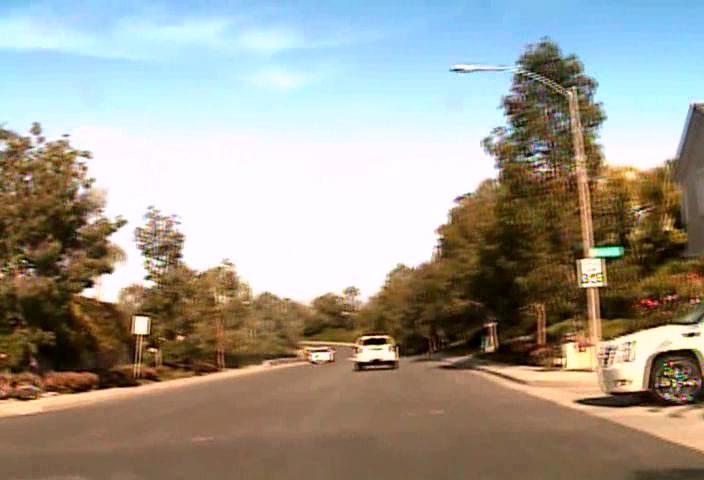speedLimit25: (578, 257, 606, 288)
